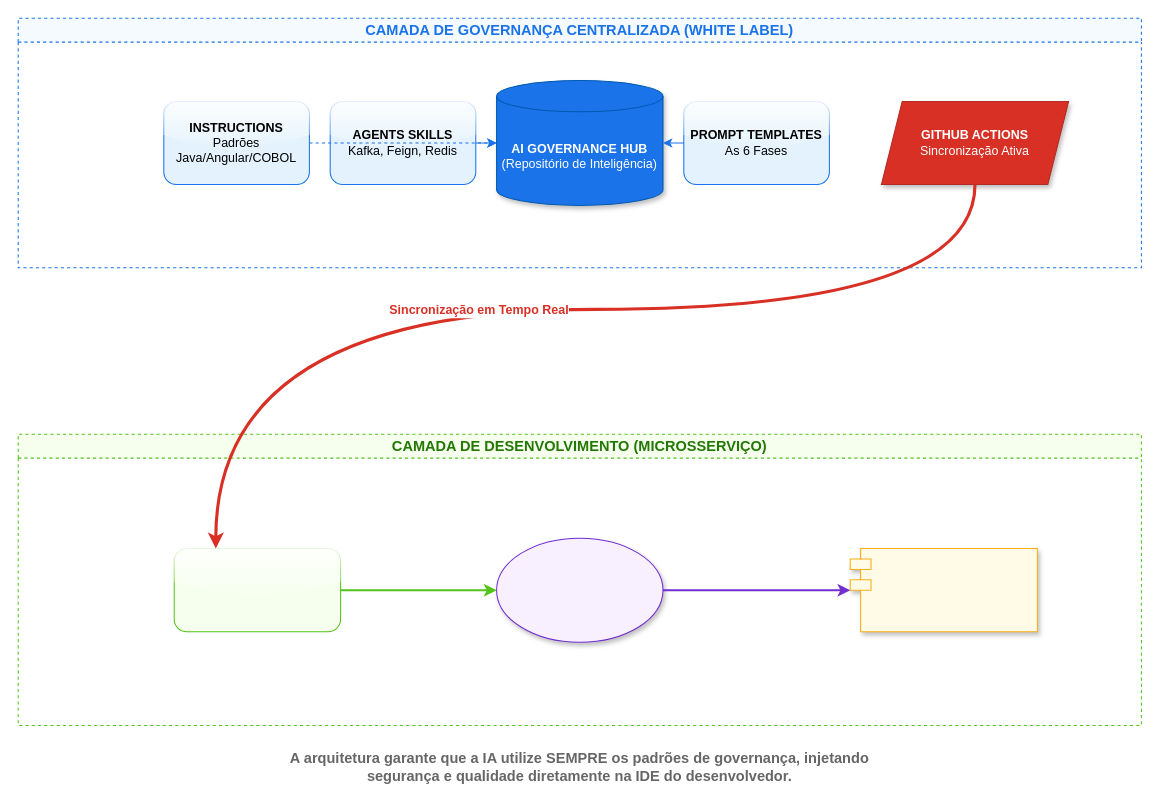
The diagram is 1160 pixels wide and 806 high, and some of its shapes have lost their labels. Here are the shapes that lost their labels. From the top down, the centre of each, then its label:
At point (257, 590): "PASTA /agentes_foursys (Regras Conectadas)".
At point (580, 591): "ASSISTENTE DE IA (Cérebro na IDE)".
At point (944, 591): "REPOSITÓRIO DE CÓDIGO (Spring / Angular / COBOL)".
